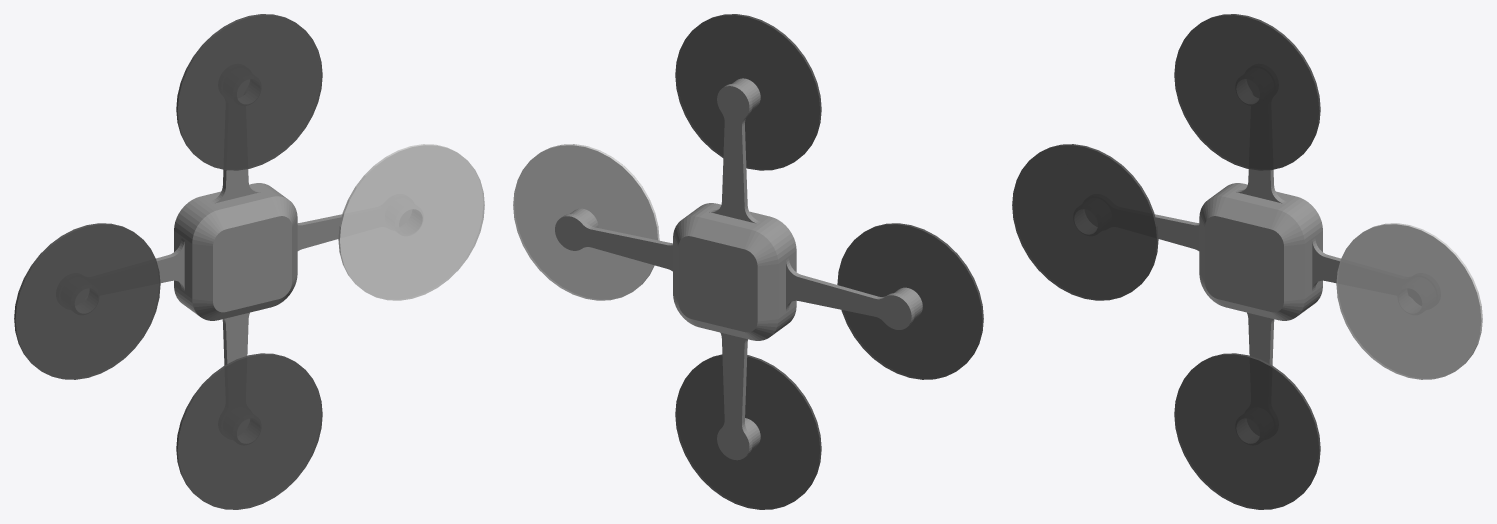
File: quadrotor_vehicle.obj
The picture shows the model from 3 angles, left to right: view 1: azimuth 30°, elevation 25°; view 2: azimuth 150°, elevation 25°; view 3: azimuth 330°, elevation 25°; orthographic projection.
Visible parts, largest first — view 1: quadrotor_vehicle; view 2: quadrotor_vehicle; view 3: quadrotor_vehicle.
Boxes of the visible parts, x1,y1,x2,y2 form: quadrotor_vehicle: [14, 14, 484, 509]; quadrotor_vehicle: [513, 14, 983, 509]; quadrotor_vehicle: [1012, 14, 1482, 509].
Size of the model in its own units: 0.3561 by 0.3561 by 0.044.
